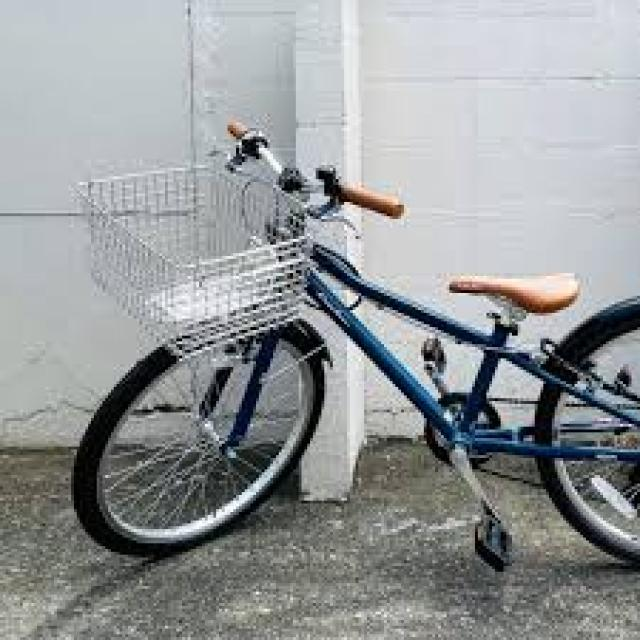basket: (71, 159, 312, 363)
